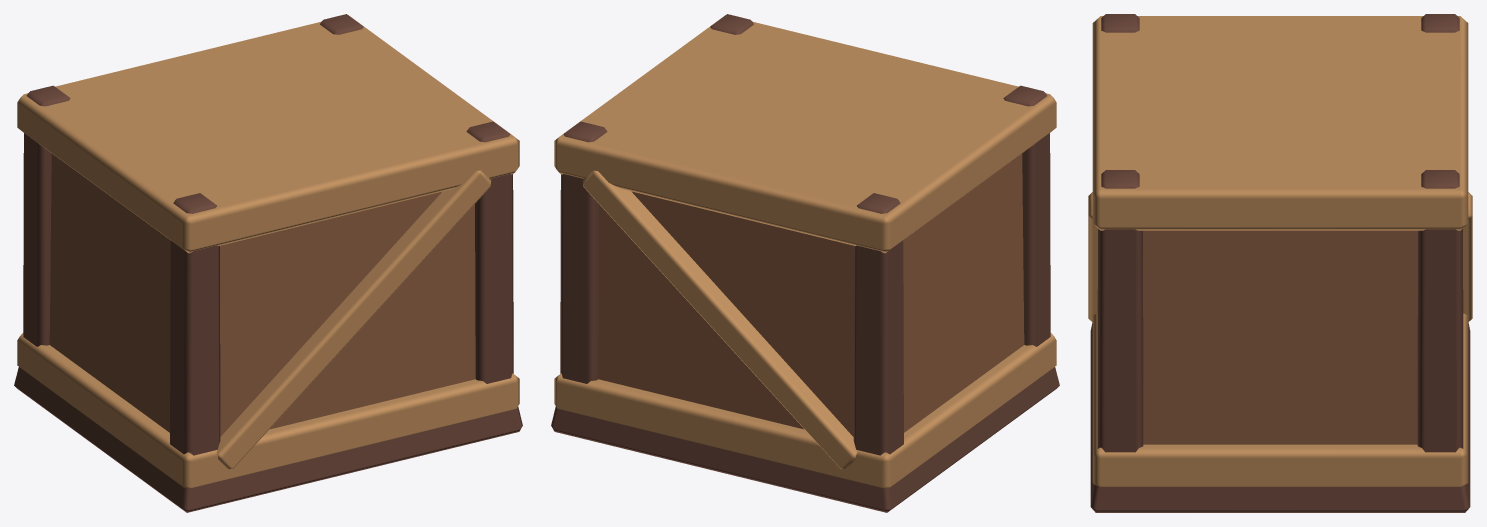
File: festival_crate.glb
The picture shows the model from 3 angles, left to right: view 1: azimuth 30°, elevation 25°; view 2: azimuth 150°, elevation 25°; view 3: azimuth 270°, elevation 25°; orthographic projection. The views are drawn at different scales.
Parts seen in each view (by area): view 1: festival_crate; view 2: festival_crate; view 3: festival_crate.
Boxes of the visible parts, x1=… form: festival_crate: x1=14, y1=14, x2=522, y2=512; festival_crate: x1=551, y1=14, x2=1059, y2=512; festival_crate: x1=1088, y1=14, x2=1472, y2=512.
Bounding box in the file's own units: 1.39 × 1.17 × 1.25.
